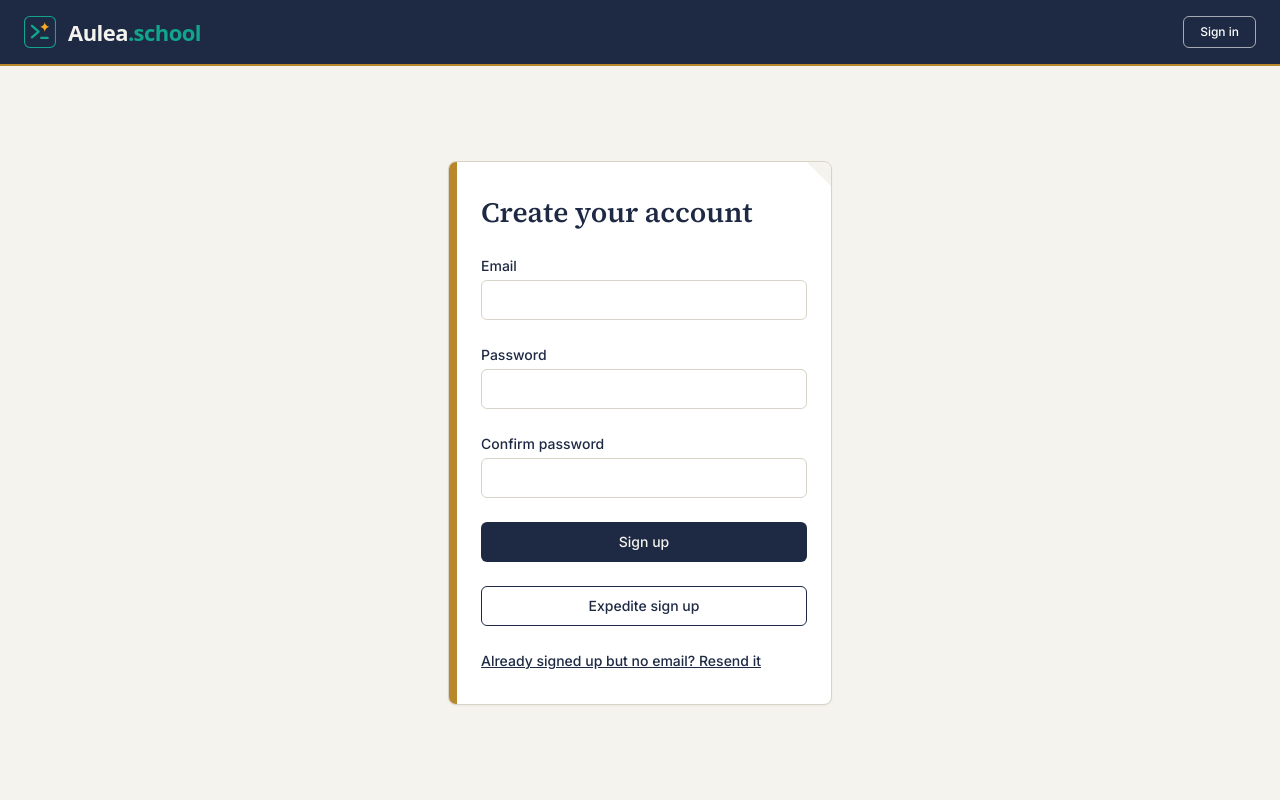
Test case: SignUpPage (SIGNUP-CONFIRMATION-001) › replaces the form with "Check your email" after a 201 on sign up
The width and height of the screenshot is (1280, 800).
Expected: the button "Expedite sign up" is shown, top-left (481, 586), bottom-right (807, 626)
Step 1. Type "a@b.it" into the field labelled "Email" → x=644, y=300, box top-left (481, 280), bottom-right (807, 320)
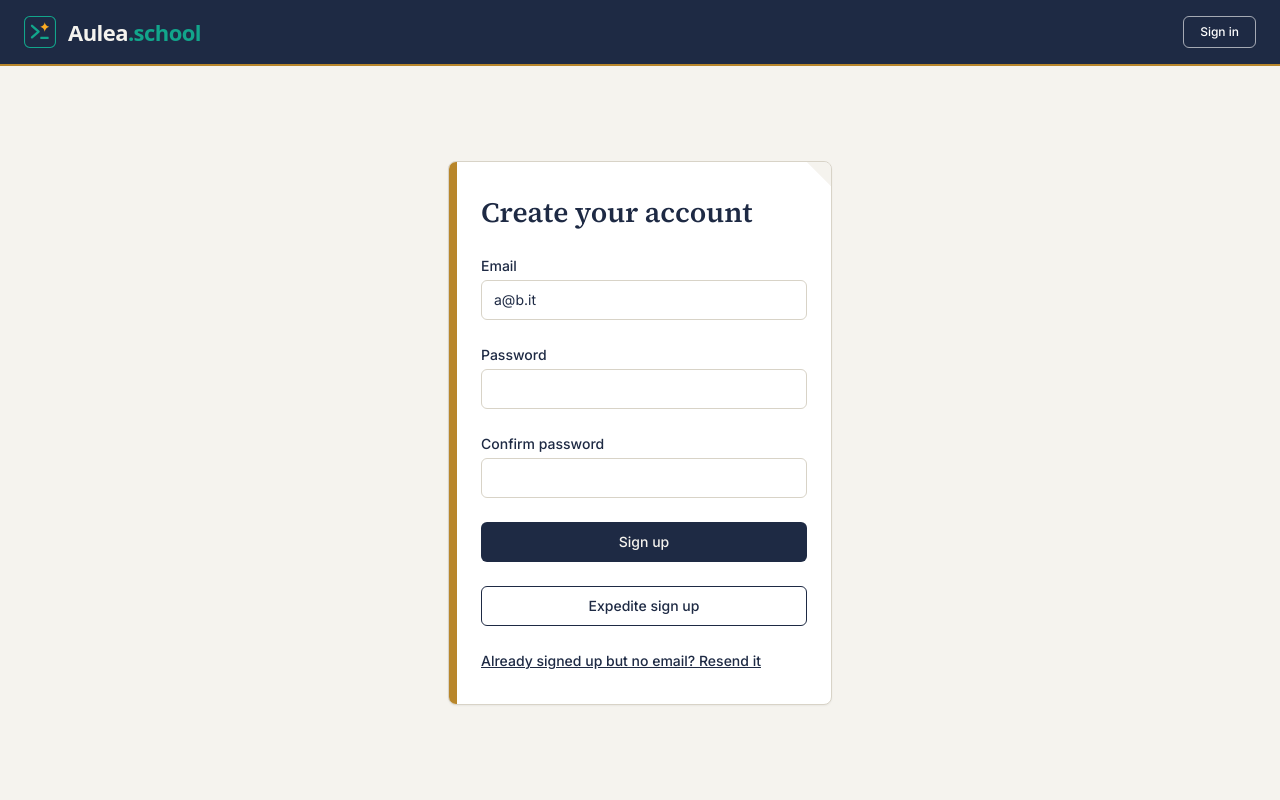
Step 2. Type "longenough" into the password field labelled "Password" → x=644, y=389, box top-left (481, 369), bottom-right (807, 409)
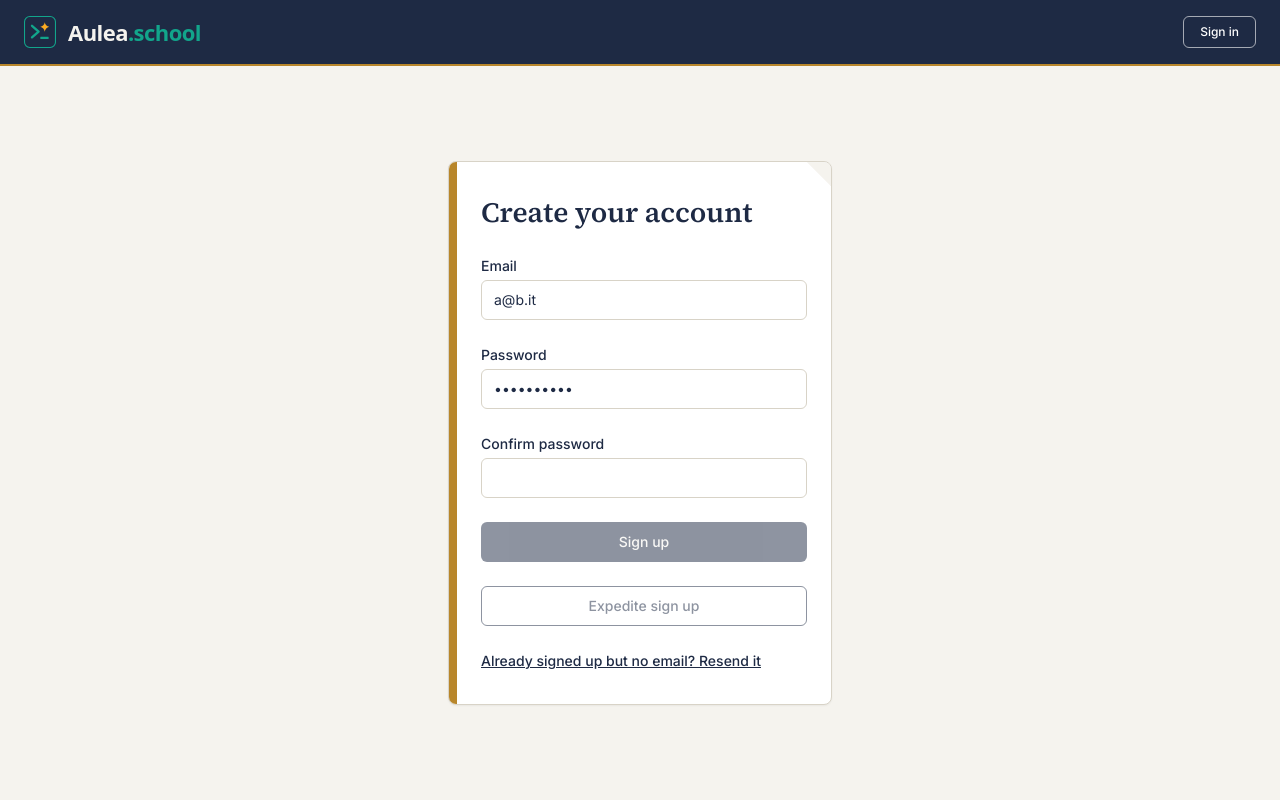
Step 3. Type "longenough" into the password field labelled "Confirm password" → x=644, y=478, box top-left (481, 458), bottom-right (807, 498)
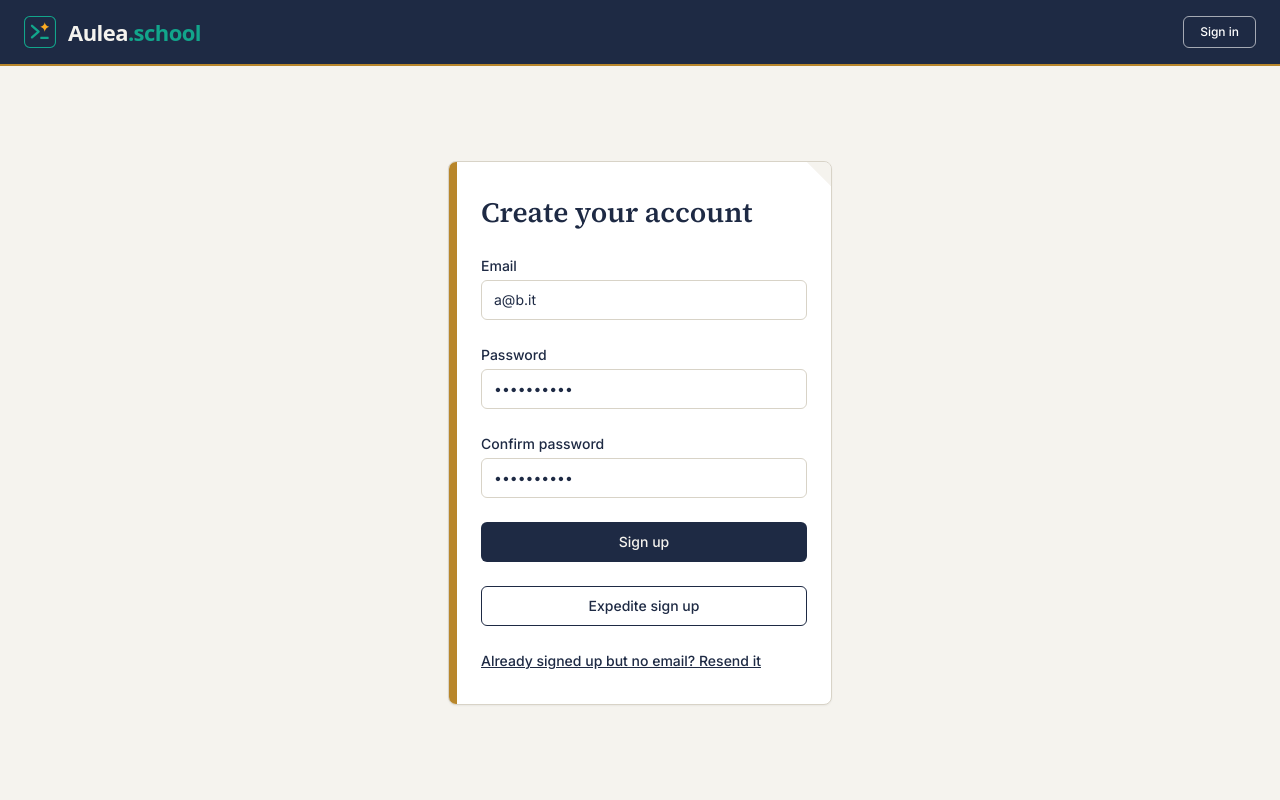
Step 4. Click the button "Sign up" → x=644, y=542, box top-left (481, 522), bottom-right (807, 562)
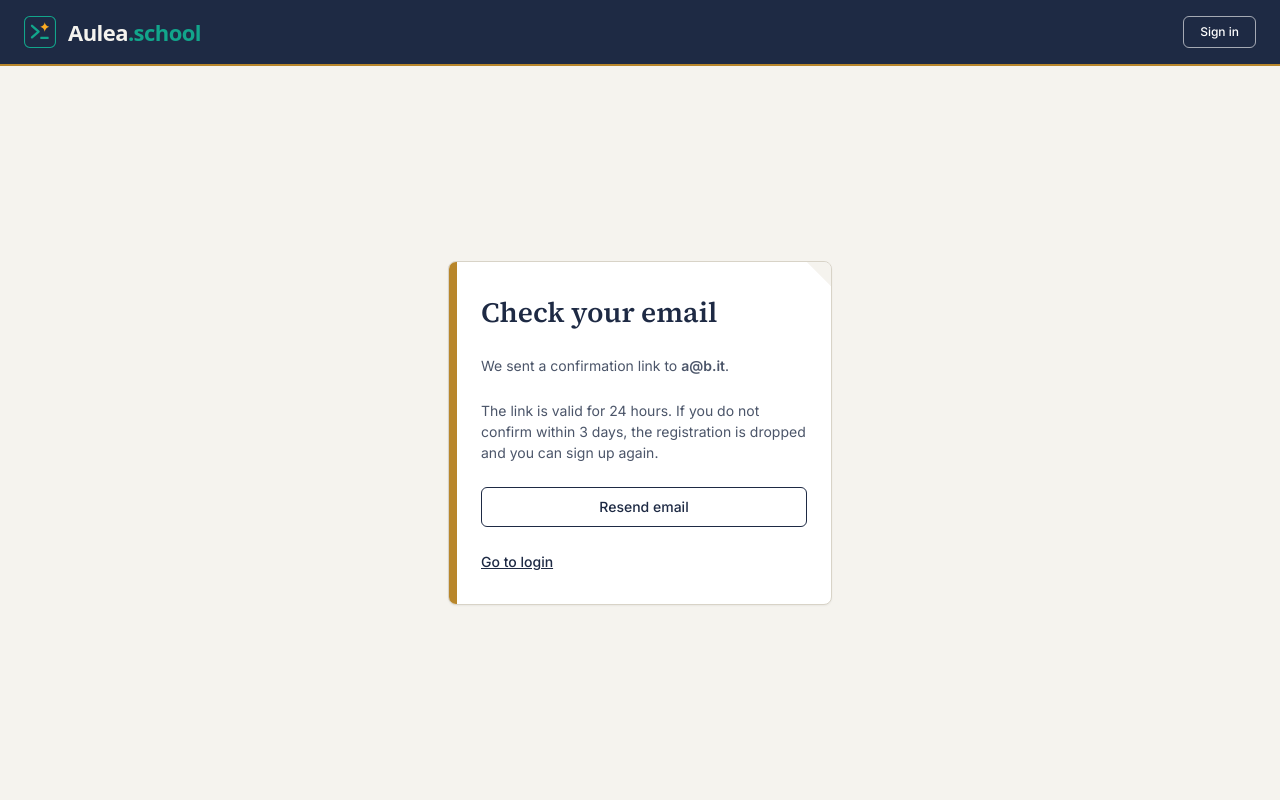
Result: the message shows "Check your email" at top-left (481, 293), bottom-right (718, 331)
Result: the message shows "a@b.it" at top-left (681, 357), bottom-right (725, 374)
Result: the message shows "24 hours" at top-left (481, 402), bottom-right (759, 440)
